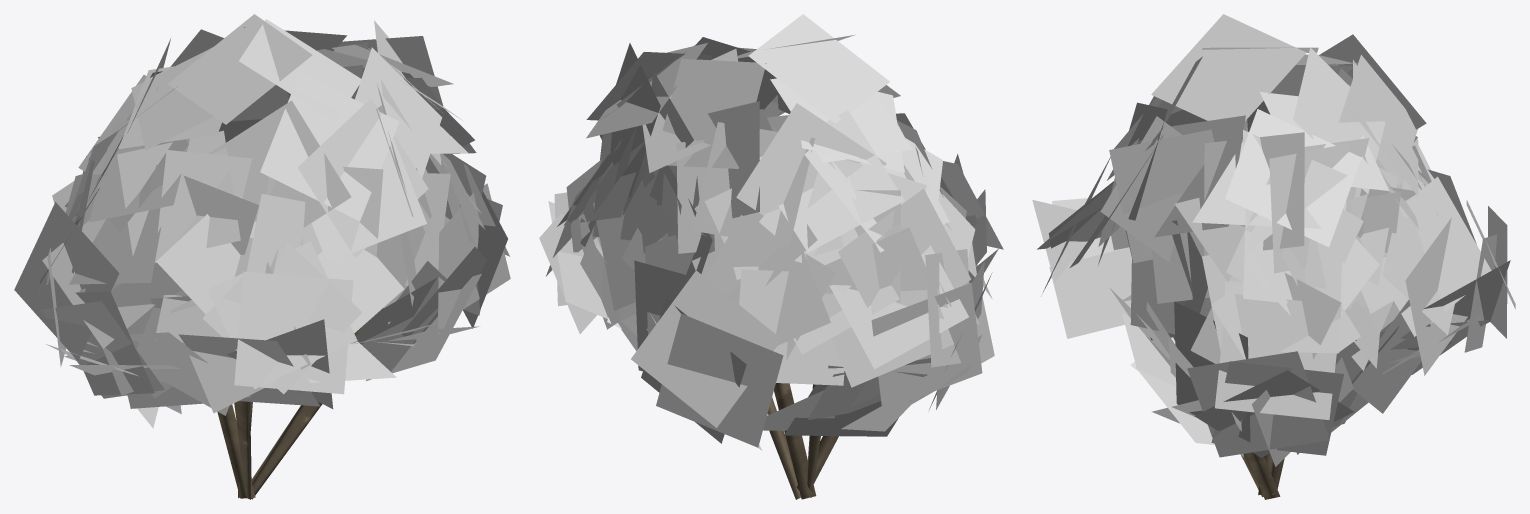
Rendered from Standar Bush_LOD_1.fbx.
The picture shows the model from 3 angles, left to right: view 1: azimuth 30°, elevation 25°; view 2: azimuth 150°, elevation 25°; view 3: azimuth 270°, elevation 25°; orthographic projection. The views are drawn at different scales.
Visible parts, largest first — view 1: Standar_Bush_Leaves_LOD_1, Standar_Bush_Branches_LOD_1; view 2: Standar_Bush_Leaves_LOD_1, Standar_Bush_Branches_LOD_1; view 3: Standar_Bush_Leaves_LOD_1, Standar_Bush_Branches_LOD_1.
Boxes of the visible parts, bbox=[...] form: Standar_Bush_Leaves_LOD_1: bbox=[14, 14, 510, 428]; Standar_Bush_Branches_LOD_1: bbox=[217, 308, 383, 499]; Standar_Bush_Leaves_LOD_1: bbox=[539, 14, 1003, 450]; Standar_Bush_Branches_LOD_1: bbox=[767, 383, 838, 499]; Standar_Bush_Leaves_LOD_1: bbox=[1032, 14, 1515, 466]; Standar_Bush_Branches_LOD_1: bbox=[1240, 452, 1284, 499].
Bounding box in the file's own units: 211 × 213 × 199.
